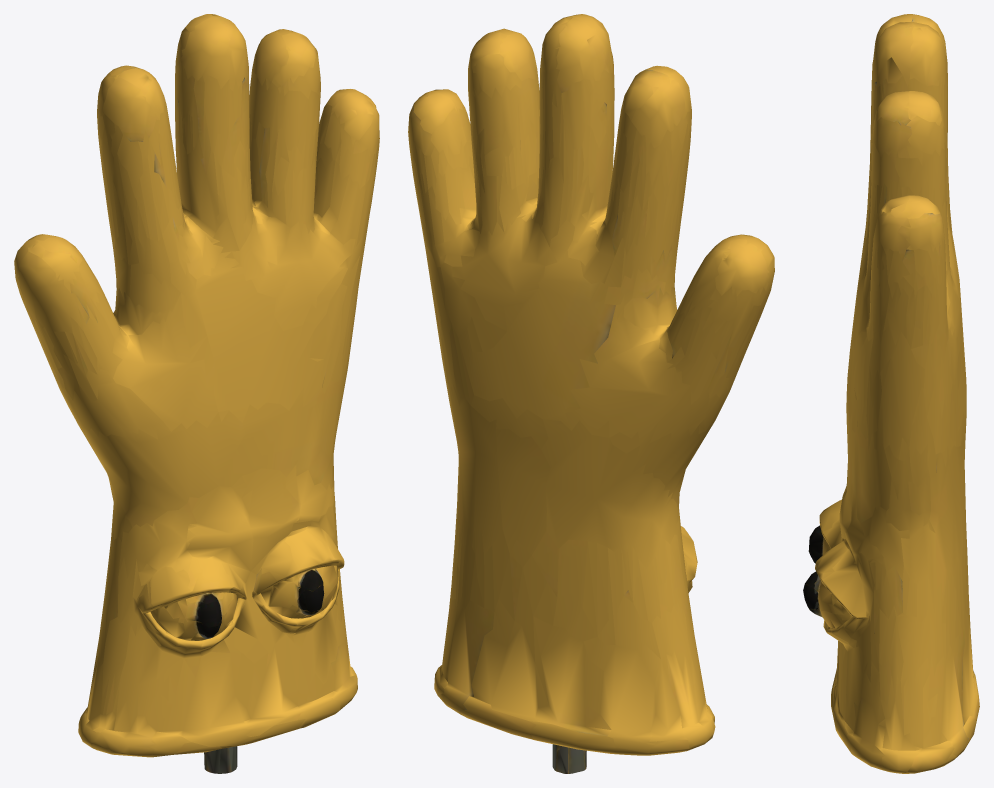
The model's file is rubber_glove.glb.
3 views of the same model, side by side, from view 1: azimuth 30°, elevation 25°; view 2: azimuth 150°, elevation 25°; view 3: azimuth 270°, elevation 25° (orthographic).
Bounding box in the file's own units: 0.9414 × 1.9 × 0.4137.
Materials: 1 (1 with a texture image).
